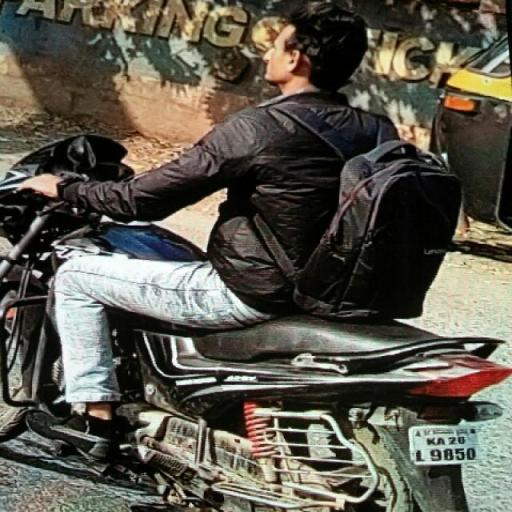bike: (2, 5, 510, 512)
numberplate: (410, 423, 480, 465)
withouthelmet: (272, 4, 360, 87)
